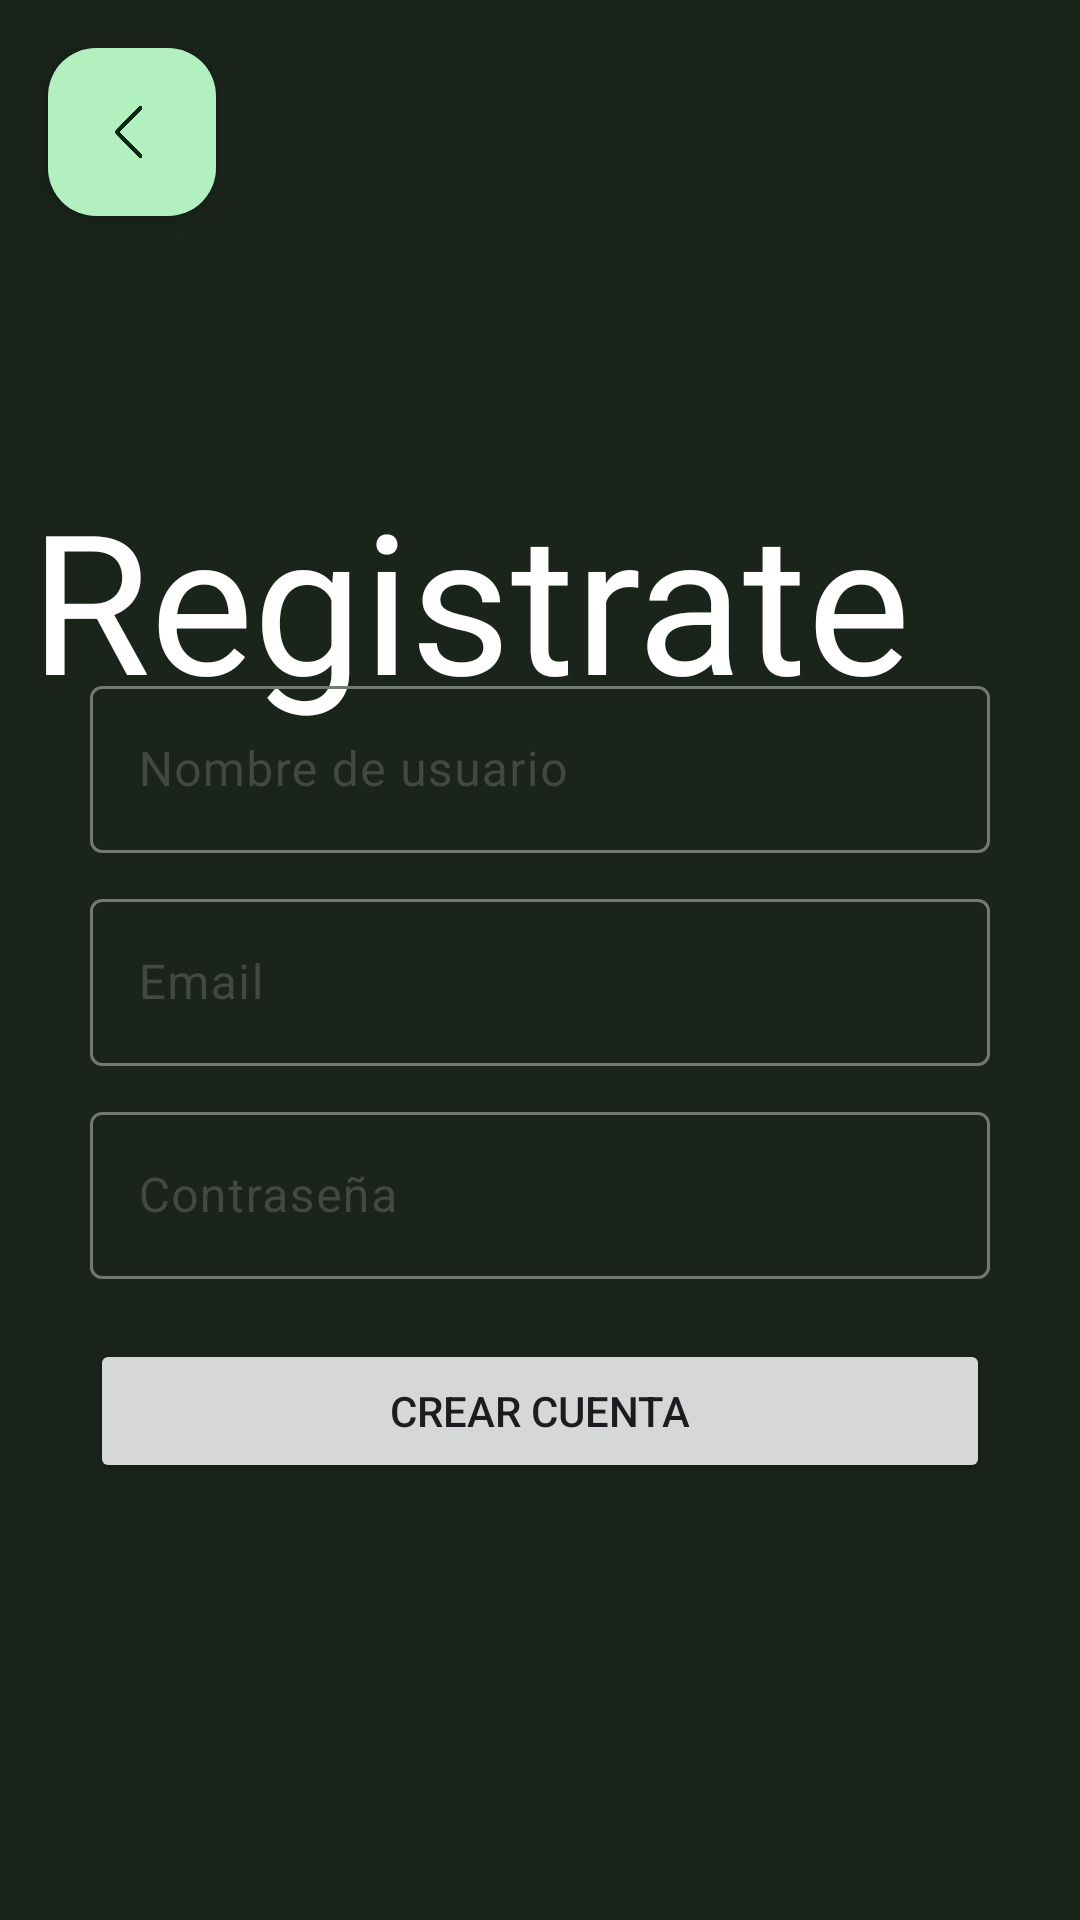

Point at icon controls on the screen. Image size 1080x1920, points as [x,y].
atras: [132,132]
